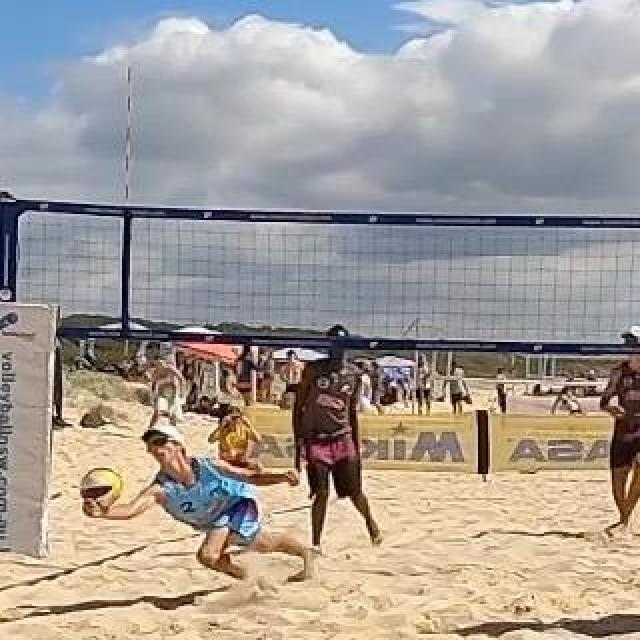volleyball: (81, 467, 123, 515)
